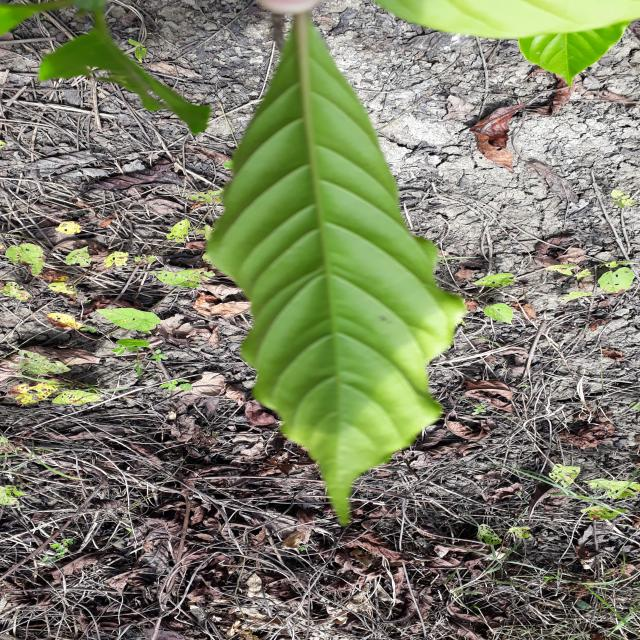Sanas: (204, 13, 465, 526)
